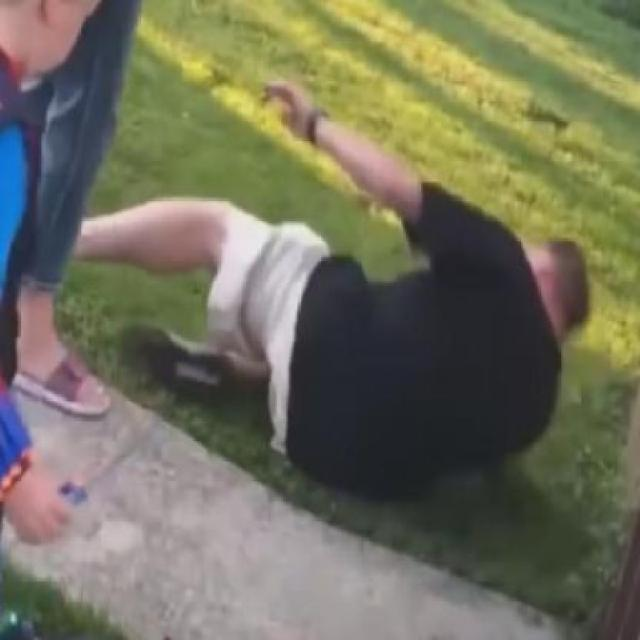fall: (83, 71, 594, 507)
